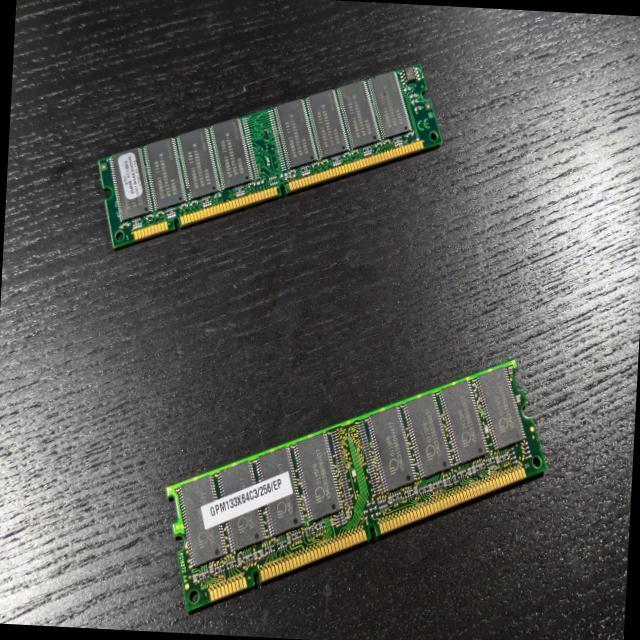RAM: (160, 342, 554, 630), (94, 45, 448, 263)
